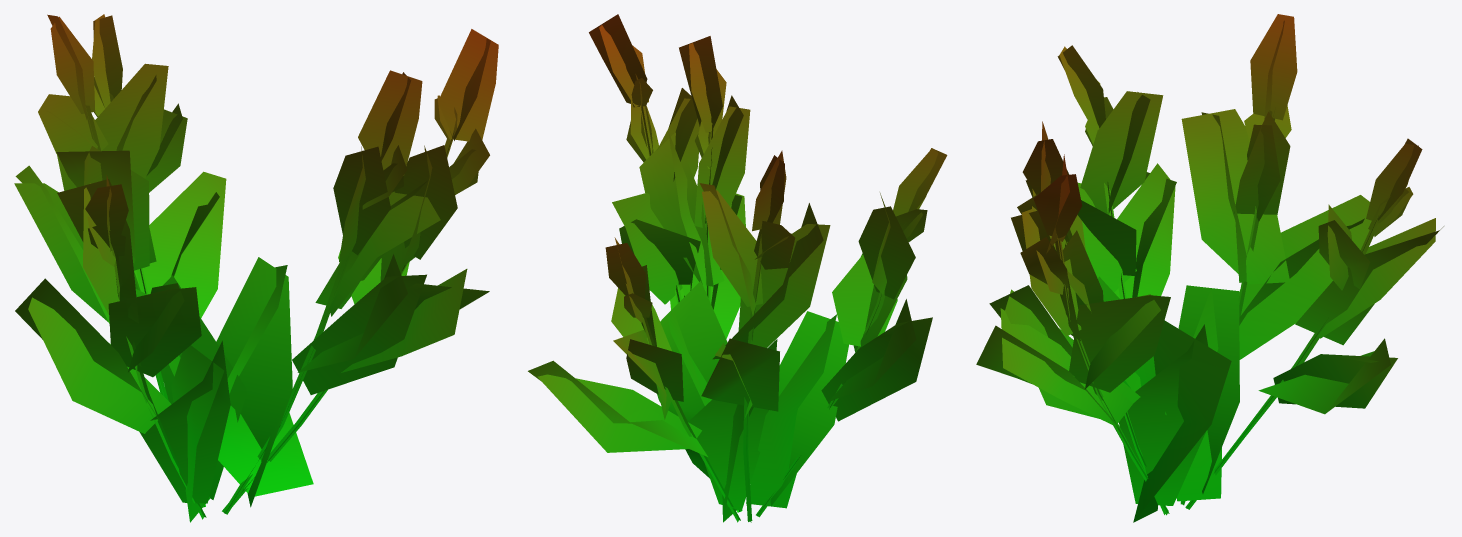
File: Chamomile_LOD2_Var10.fbx
The picture shows the model from 3 angles, left to right: view 1: azimuth 30°, elevation 25°; view 2: azimuth 150°, elevation 25°; view 3: azimuth 270°, elevation 25°; orthographic projection. The views are drawn at different scales.
Parts seen in each view (by area): view 1: _lqub_Var10_LOD2; view 2: _lqub_Var10_LOD2; view 3: _lqub_Var10_LOD2.
Boxes of the visible parts, box(x1,y1,x2,y2) form: _lqub_Var10_LOD2: box(14, 14, 498, 522); _lqub_Var10_LOD2: box(528, 14, 947, 522); _lqub_Var10_LOD2: box(976, 14, 1443, 522).
Bounding box in the file's own units: 16.02 × 17.11 × 16.19.
